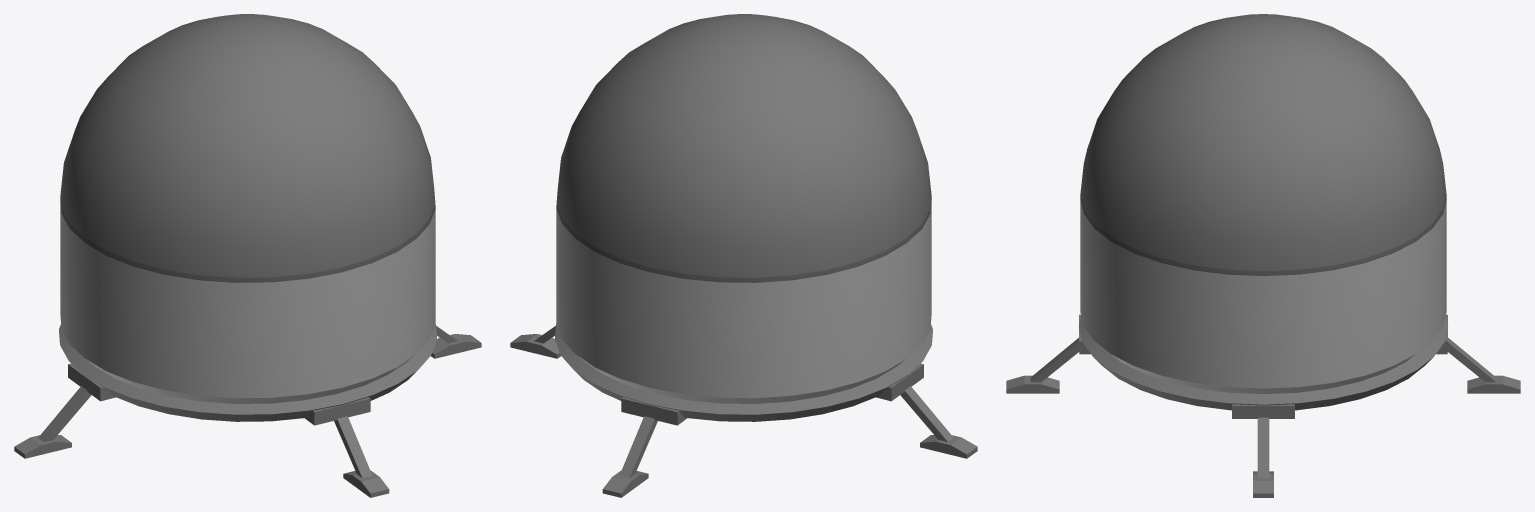
The model's file is house-cylinder.glb.
3 views of the same model, side by side, from view 1: azimuth 30°, elevation 25°; view 2: azimuth 150°, elevation 25°; view 3: azimuth 270°, elevation 25° (orthographic). The views are drawn at different scales.
Parts seen in each view (by area): view 1: House_Cylinder; view 2: House_Cylinder; view 3: House_Cylinder.
Boxes of the visible parts, box(x1,y1,x2,y2) form: House_Cylinder: box(14, 14, 481, 497); House_Cylinder: box(510, 14, 977, 497); House_Cylinder: box(1006, 14, 1520, 497).
Size of the model in its own units: 5.61 by 4.32 by 5.61.
Materials: 1 (1 with a texture image).
